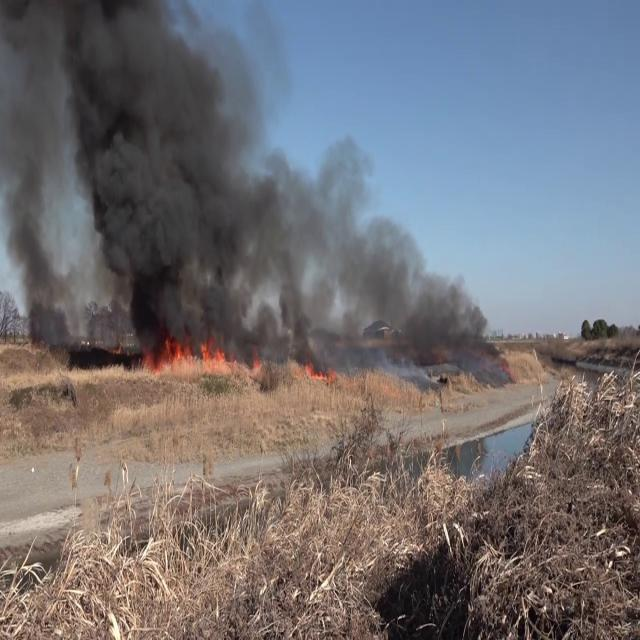Fire: (136, 325, 248, 377)
Smoke: (0, 0, 282, 346), (281, 148, 508, 368)
